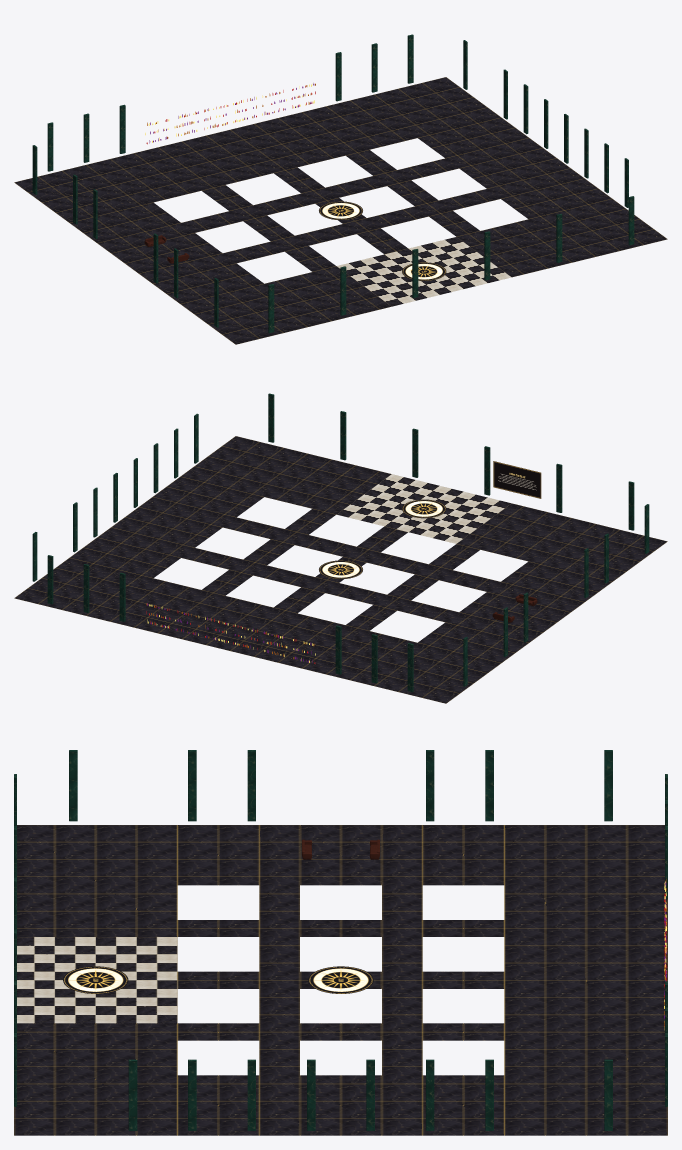
Rendered from lb4_lounge_p4.glb.
The picture shows the model from 3 angles, top to bottom: view 1: azimuth 30°, elevation 25°; view 2: azimuth 150°, elevation 25°; view 3: azimuth 270°, elevation 25°; orthographic projection. The views are drawn at different scales.
Parts seen in each view (by area): view 1: lb4_lounge_p4; view 2: lb4_lounge_p4; view 3: lb4_lounge_p4.
Part boxes in pixels (<box>): lb4_lounge_p4: <box>14,34,667,344</box>; lb4_lounge_p4: <box>14,393,667,703</box>; lb4_lounge_p4: <box>14,750,667,1135</box>.
Bounding box in the file's own units: 72 × 10 × 64.
Materials: 11 (7 with a texture image).
